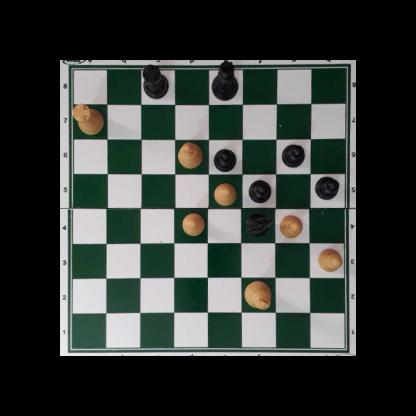black-king: (211, 59, 240, 103)
black-knight: (246, 212, 272, 237)
black-pawn: (314, 176, 339, 200), (281, 143, 305, 167), (213, 146, 236, 171), (249, 178, 271, 203)
black-rook: (140, 66, 170, 97)
white-bishop: (179, 141, 202, 169)
white-king: (244, 279, 273, 310)
white-pawn: (316, 246, 342, 273), (279, 214, 303, 238), (212, 182, 237, 205), (181, 212, 204, 236)
white-rook: (72, 105, 104, 133)
